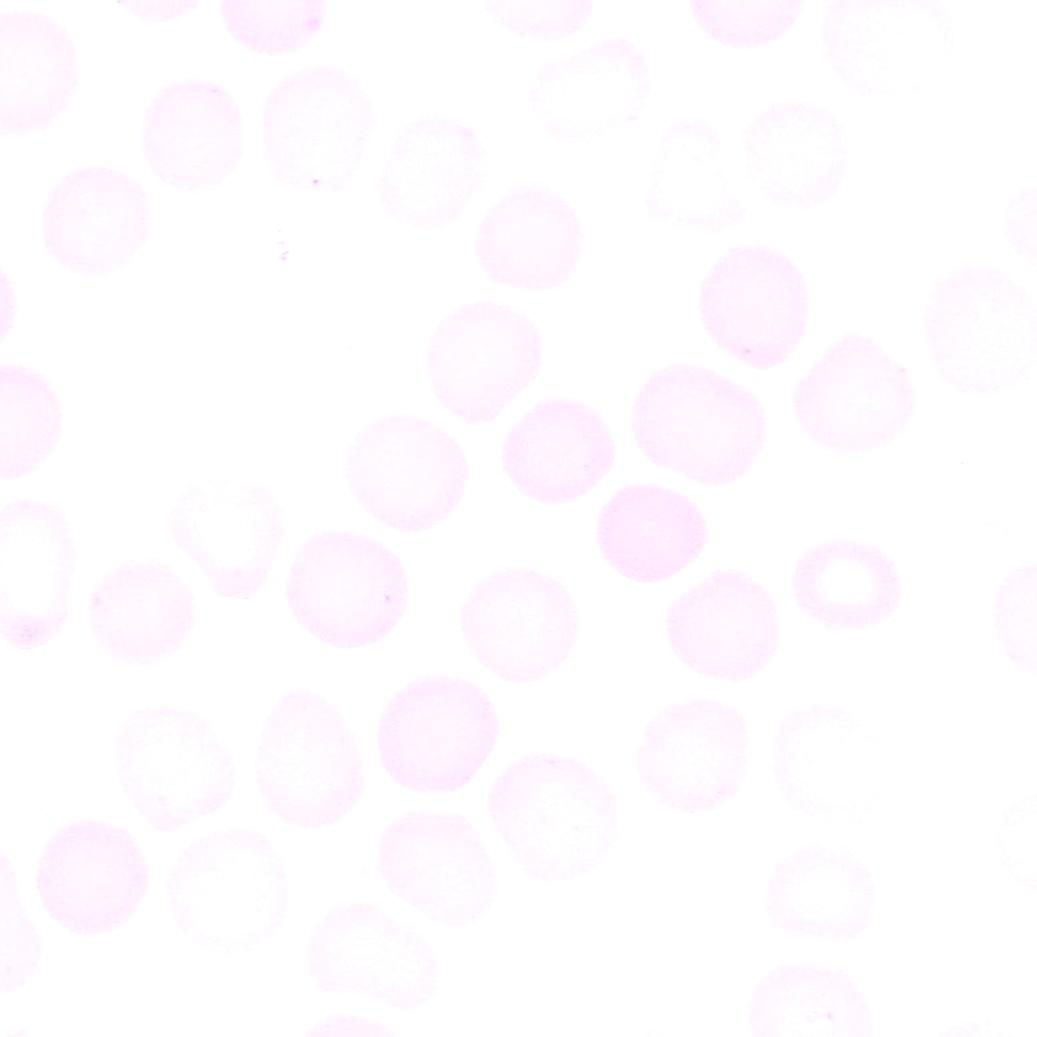Uninfected: (631, 364, 762, 488), (251, 689, 365, 829), (114, 704, 234, 831), (261, 65, 380, 191), (286, 530, 408, 652), (170, 475, 287, 600), (345, 413, 467, 532), (794, 335, 912, 454), (698, 246, 811, 368), (376, 677, 493, 794), (460, 566, 576, 682), (425, 300, 538, 419), (670, 563, 778, 680), (375, 117, 485, 229), (42, 165, 148, 275), (501, 398, 609, 502), (87, 558, 191, 665), (141, 80, 242, 190), (600, 486, 709, 585), (476, 189, 580, 291), (793, 538, 897, 631)
